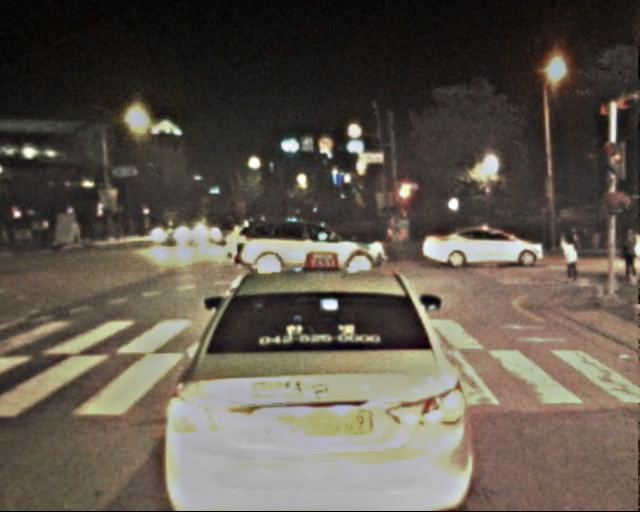person: (559, 228, 584, 286), (617, 228, 639, 286)
